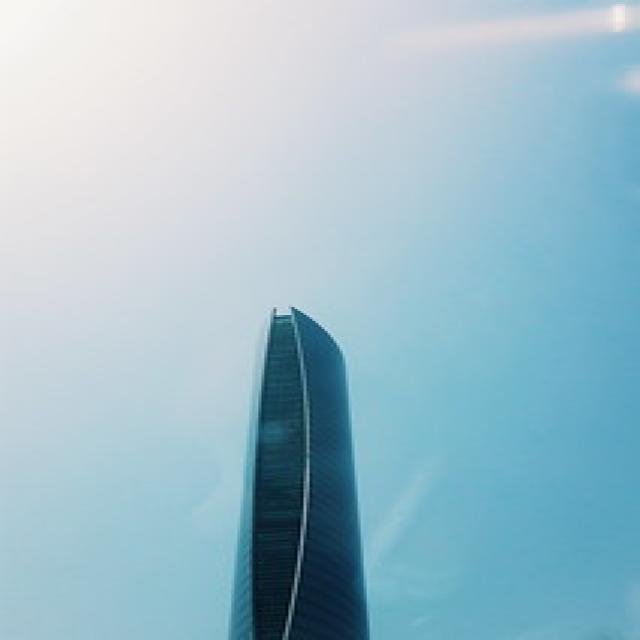Normal_building: (221, 303, 380, 640)
